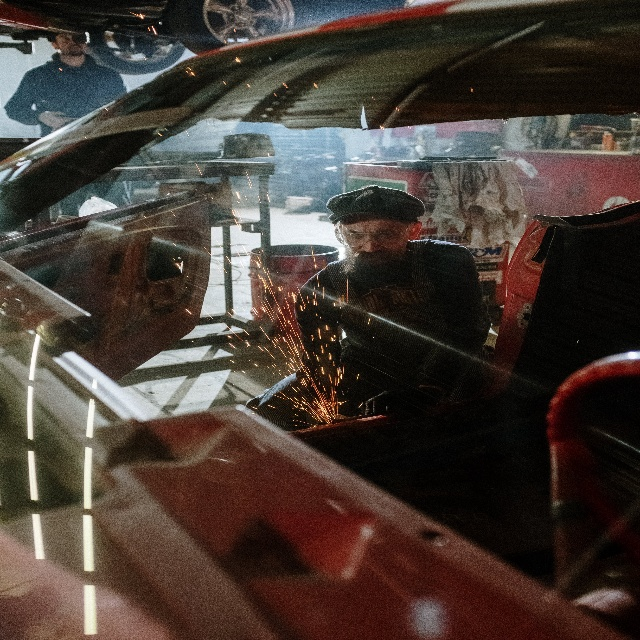Gafas: (334, 220, 411, 249)
